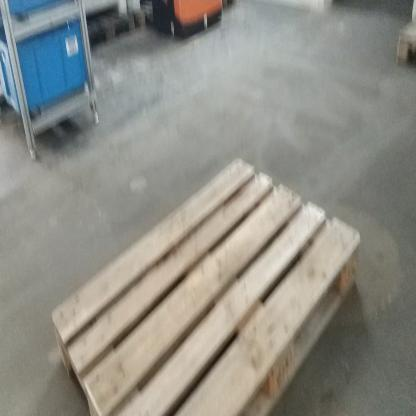BoxFace: (49, 150, 363, 416)
